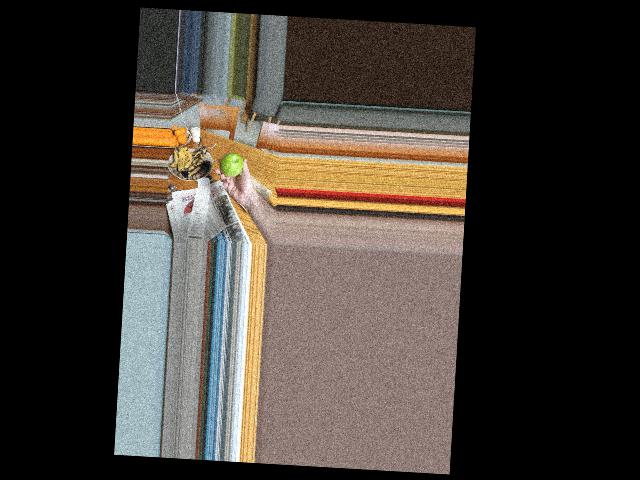apple: (218, 150, 247, 179)
